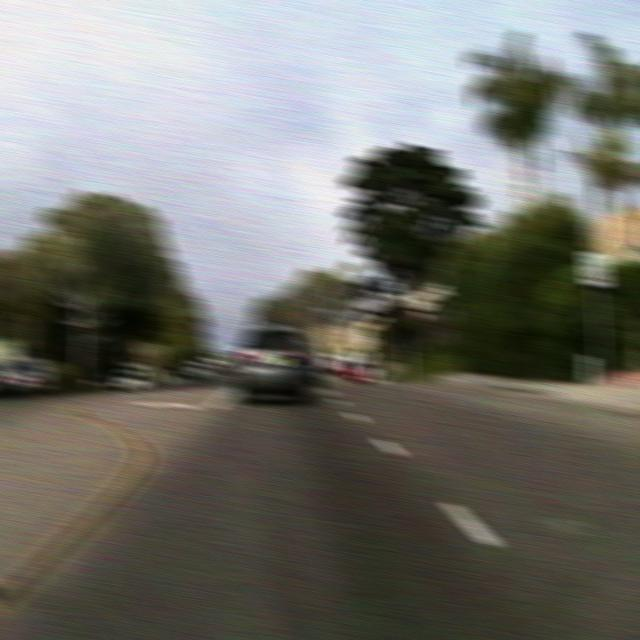speedLimit40: (580, 249, 609, 287)
